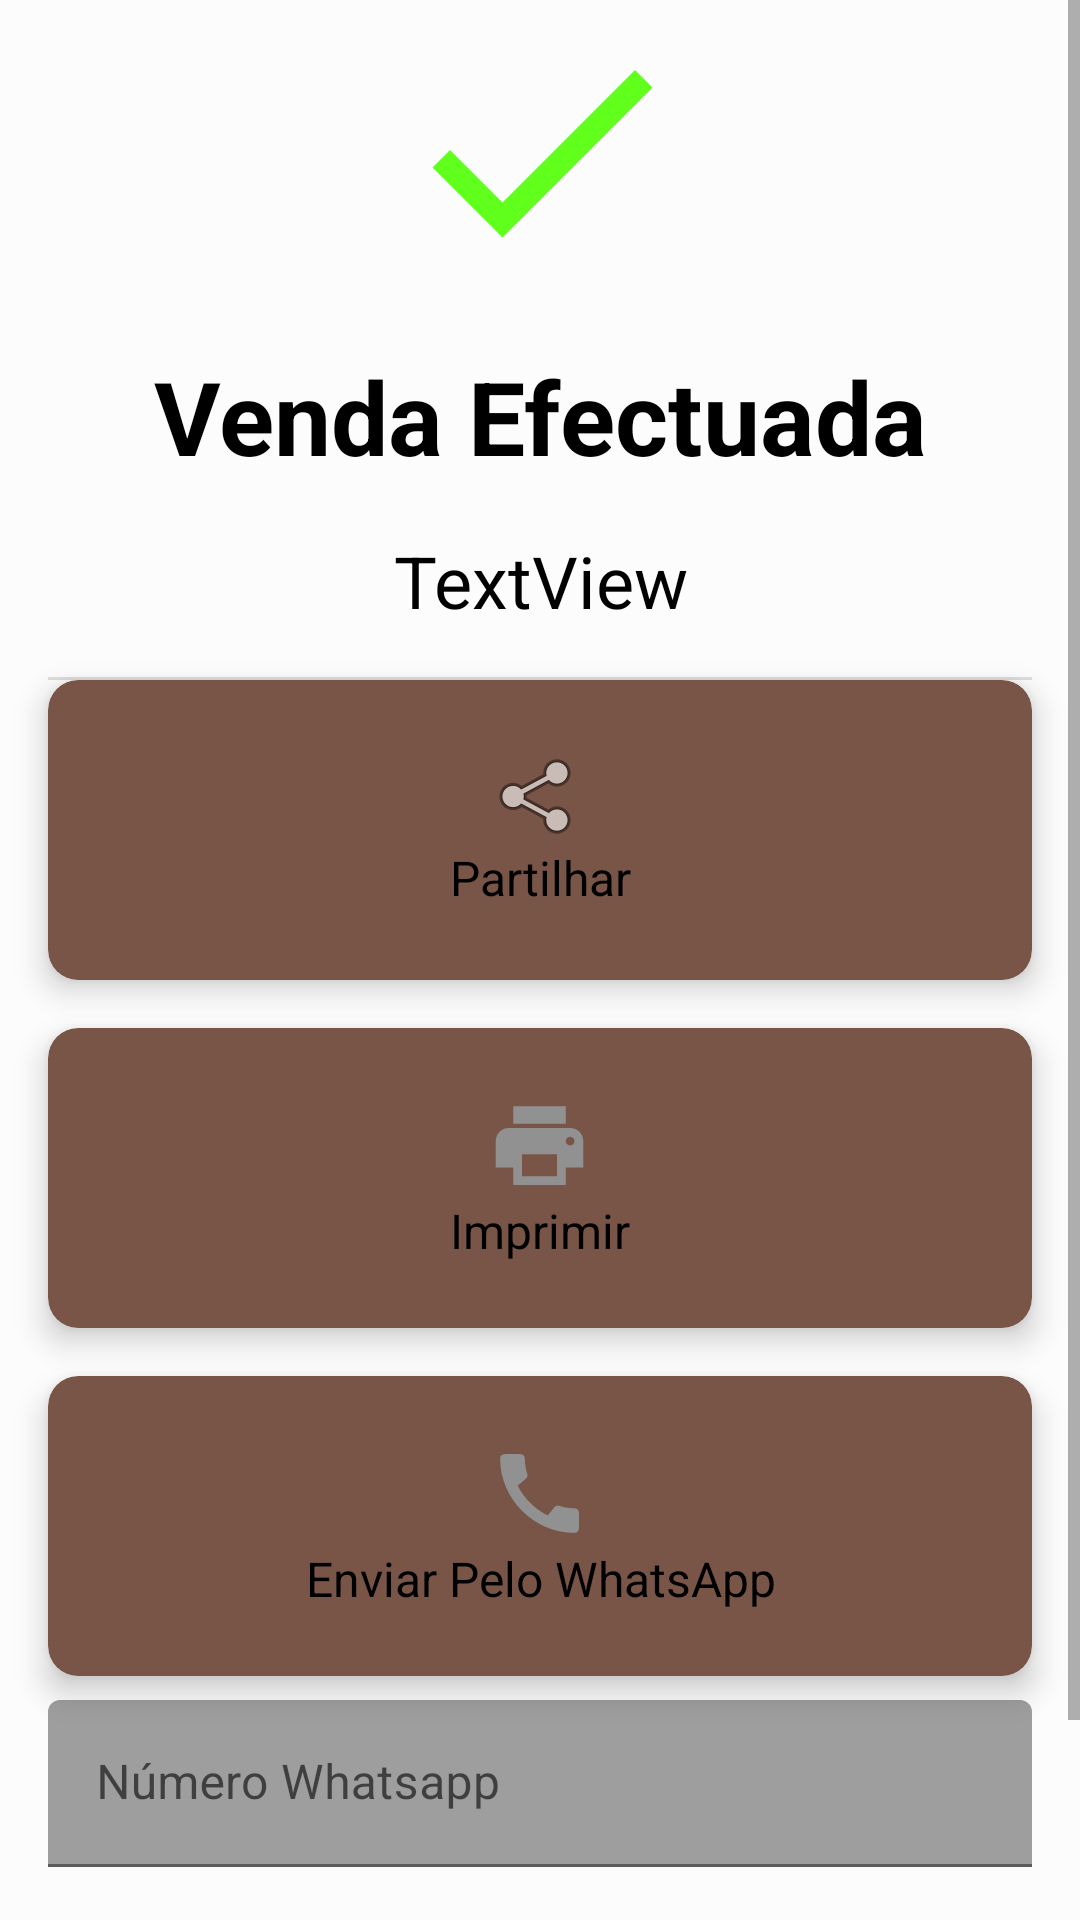

Named icons in this screenshot (1080x1920) and their bounding boxes, BBox(x1, y1, x2, y2):
call: BBox(500, 1454, 579, 1533)
done: BBox(432, 70, 653, 238)
